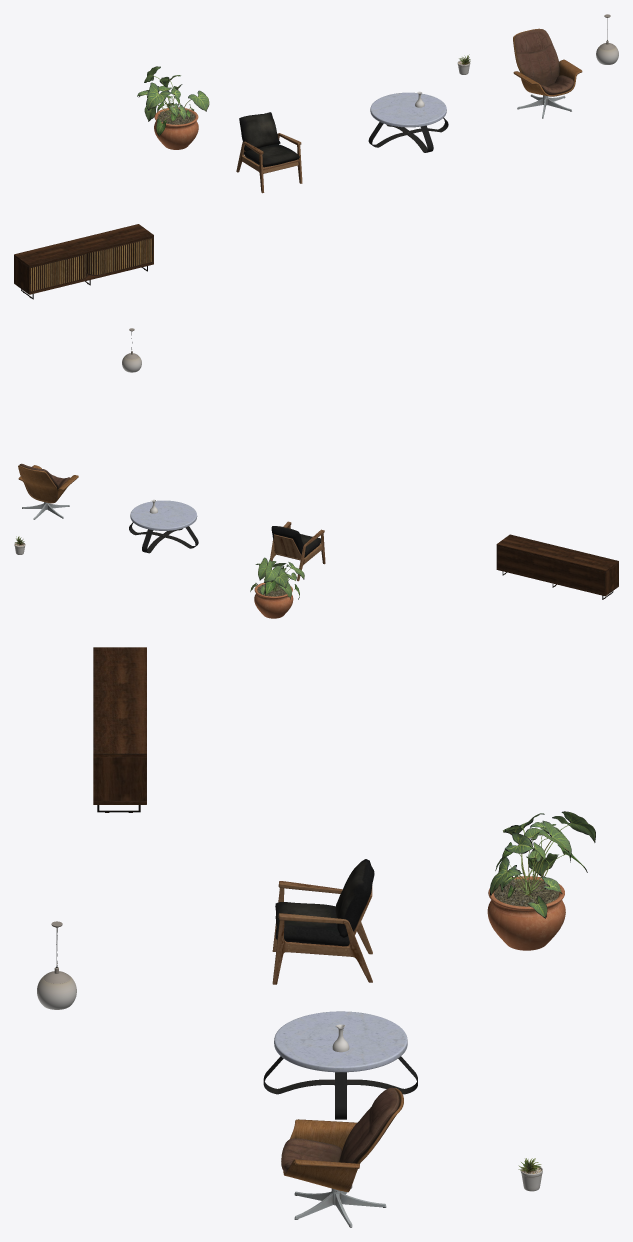
Rendered from furniture.glb.
The picture shows the model from 3 angles, top to bottom: view 1: azimuth 30°, elevation 25°; view 2: azimuth 150°, elevation 25°; view 3: azimuth 270°, elevation 25°; orthographic projection. The views are drawn at different scales.
Visible parts, largest first — view 1: LM_furn; view 2: LM_furn; view 3: LM_furn.
Boxes of the visible parts, left/top/right/bottom form: LM_furn: left=14, top=14, right=618, bottom=299; LM_furn: left=14, top=328, right=618, bottom=618; LM_furn: left=37, top=647, right=595, bottom=1227.
Size of the model in its own units: 11.95 by 2.9 by 5.42.
Materials: 12 (12 with a texture image).
